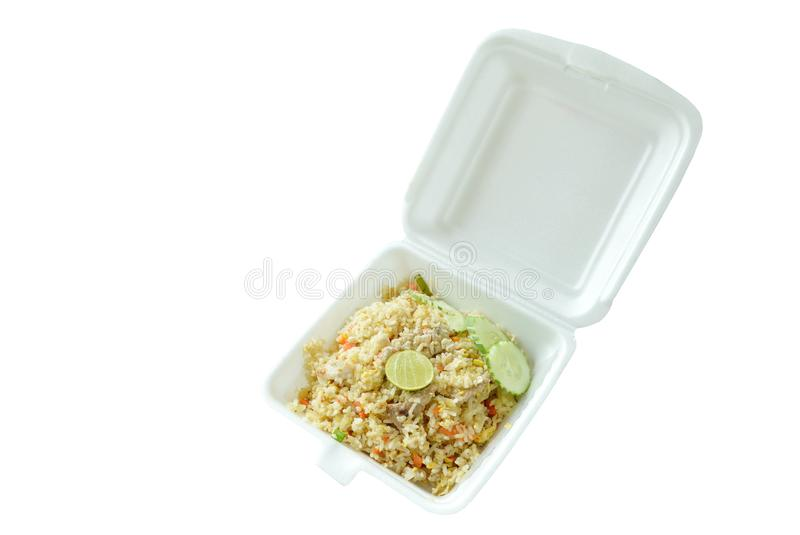Foam Box: (255, 23, 708, 516)
